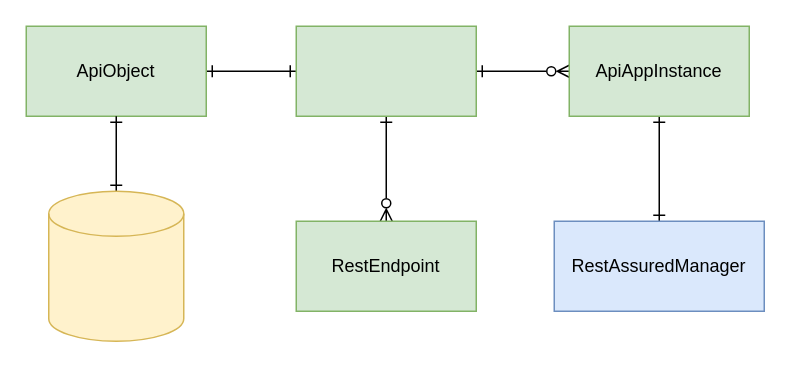
This 791x368 diagram has some shape labels left out. Each missing label, with the centre of its shape:
"AOProps" belongs at (x=115, y=265).
"Endpoint" belongs at (x=385, y=70).
